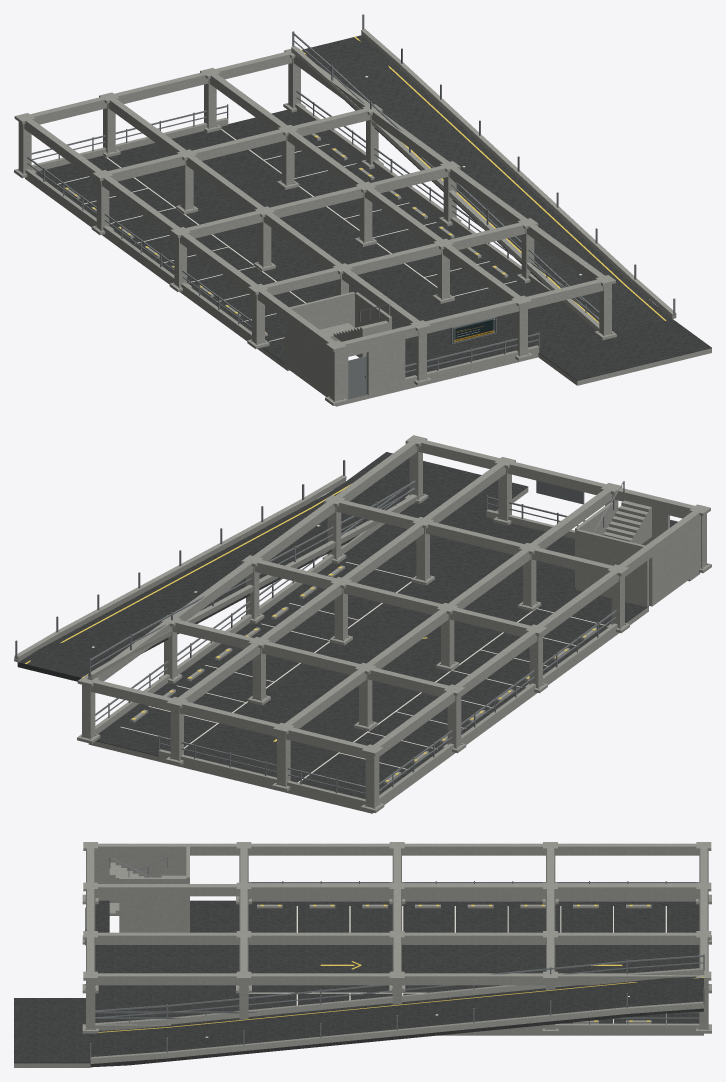
File: PZ_MorrowPark_Combined_Floor_and_Ramp.glb
3 renders of one model, top to bottom at view 1: azimuth 30°, elevation 25°; view 2: azimuth 150°, elevation 25°; view 3: azimuth 270°, elevation 25°, orthographic. The views are drawn at different scales.
Parts seen in each view (by area): view 1: FLOOR_Perimeter_SafetyRails, RAMP_LOWER_SideTurn_Wear_4x4, RAMP_LOWER_ApproachWear_4x4, RAMP_SlopedDeck_Segment_07_Y28, RAMP_SlopedDeck_Segment_06_Y24, STAIR_CoreWall_WEST, RAMP_SlopedDeck_Segment_05_Y20, FLOOR_WearingCourse_X03_Y00, RAMP_SlopedDeck_Segment_00_Y00, FLOOR_WearingCourse_X02_Y04, FLOOR_WearingCourse_X02_Y02, FLOOR_WearingCourse_X02_Y06 (+68 smaller); view 2: FLOOR_Perimeter_SafetyRails, STAIR_CoreWall_BACK, STAIR_CoreWall_WEST, RAMP_SlopedDeck_Segment_07_Y28, FLOOR_WearingCourse_X03_Y07, FLOOR_WearingCourse_X02_Y01, FLOOR_WearingCourse_X02_Y05, FLOOR_WearingCourse_X02_Y03, FLOOR_WearingCourse_X01_Y05, FLOOR_WearingCourse_X01_Y03, FLOOR_WearingCourse_X02_Y07, FLOOR_WearingCourse_X01_Y01 (+80 smaller); view 3: FLOOR_Perimeter_SafetyRails, STAIR_CoreWall_EAST, RAMP_LOWER_ApproachWear_4x4, RAMP_SlopedDeck_Segment_03_Y12, RAMP_SlopedDeck_Segment_05_Y20, RAMP_SlopedDeck_Segment_04_Y16, RAMP_SlopedDeck_Segment_01_Y04, RAMP_SlopedDeck_Segment_02_Y08, RAMP_LOWER_SideTurn_Wear_4x4, RAMP_SlopedDeck_Segment_06_Y24, RAMP_SlopedDeck_Segment_00_Y00, RAMP_SlopedDeck_Segment_07_Y28 (+71 smaller).
Boxes of the visible parts, x1=… form: FLOOR_Perimeter_SafetyRails: x1=25, y1=90, x2=565, y2=385; RAMP_LOWER_SideTurn_Wear_4x4: x1=539, y1=337, x2=644, y2=380; RAMP_LOWER_ApproachWear_4x4: x1=610, y1=319, x2=711, y2=364; RAMP_SlopedDeck_Segment_07_Y28: x1=302, y1=35, x2=399, y2=83; RAMP_SlopedDeck_Segment_06_Y24: x1=343, y1=69, x2=438, y2=117; STAIR_CoreWall_WEST: x1=284, y1=310, x2=333, y2=396; RAMP_SlopedDeck_Segment_05_Y20: x1=374, y1=105, x2=477, y2=161; FLOOR_WearingCourse_X03_Y00: x1=500, y1=307, x2=598, y2=351; RAMP_SlopedDeck_Segment_00_Y00: x1=575, y1=285, x2=672, y2=333; FLOOR_WearingCourse_X02_Y04: x1=287, y1=210, x2=382, y2=251; FLOOR_WearingCourse_X02_Y02: x1=365, y1=266, x2=459, y2=308; FLOOR_WearingCourse_X02_Y06: x1=209, y1=153, x2=304, y2=194; FLOOR_Perimeter_SafetyRails: x1=95, y1=495, x2=617, y2=806; STAIR_CoreWall_BACK: x1=576, y1=529, x2=648, y2=606; STAIR_CoreWall_WEST: x1=649, y1=512, x2=700, y2=606; RAMP_SlopedDeck_Segment_07_Y28: x1=17, y1=638, x2=119, y2=681; FLOOR_WearingCourse_X03_Y07: x1=96, y1=709, x2=199, y2=756; FLOOR_WearingCourse_X02_Y01: x1=406, y1=546, x2=505, y2=590; FLOOR_WearingCourse_X02_Y05: x1=242, y1=666, x2=341, y2=710; FLOOR_WearingCourse_X02_Y03: x1=324, y1=606, x2=423, y2=650; FLOOR_WearingCourse_X01_Y05: x1=318, y1=685, x2=423, y2=730; FLOOR_WearingCourse_X01_Y03: x1=400, y1=625, x2=505, y2=670; FLOOR_WearingCourse_X02_Y07: x1=167, y1=726, x2=270, y2=767; FLOOR_WearingCourse_X01_Y01: x1=482, y1=565, x2=576, y2=610; FLOOR_Perimeter_SafetyRails: x1=167, y1=881, x2=699, y2=1031; STAIR_CoreWall_EAST: x1=119, y1=877, x2=186, y2=932; RAMP_LOWER_ApproachWear_4x4: x1=14, y1=1030, x2=90, y2=1063; RAMP_SlopedDeck_Segment_03_Y12: x1=320, y1=1003, x2=397, y2=1046; RAMP_SlopedDeck_Segment_05_Y20: x1=474, y1=988, x2=550, y2=1031; RAMP_SlopedDeck_Segment_04_Y16: x1=397, y1=995, x2=473, y2=1039; RAMP_SlopedDeck_Segment_01_Y04: x1=167, y1=1018, x2=243, y2=1061; RAMP_SlopedDeck_Segment_02_Y08: x1=244, y1=1010, x2=320, y2=1054; RAMP_LOWER_SideTurn_Wear_4x4: x1=14, y1=998, x2=85, y2=1030; RAMP_SlopedDeck_Segment_06_Y24: x1=550, y1=982, x2=627, y2=1024; RAMP_SlopedDeck_Segment_00_Y00: x1=90, y1=1025, x2=167, y2=1067; RAMP_SlopedDeck_Segment_07_Y28: x1=627, y1=976, x2=703, y2=1017.
Size of the model in its own units: 20.63 by 4.64 by 36.42.
Materials: 7 (4 with a texture image).
